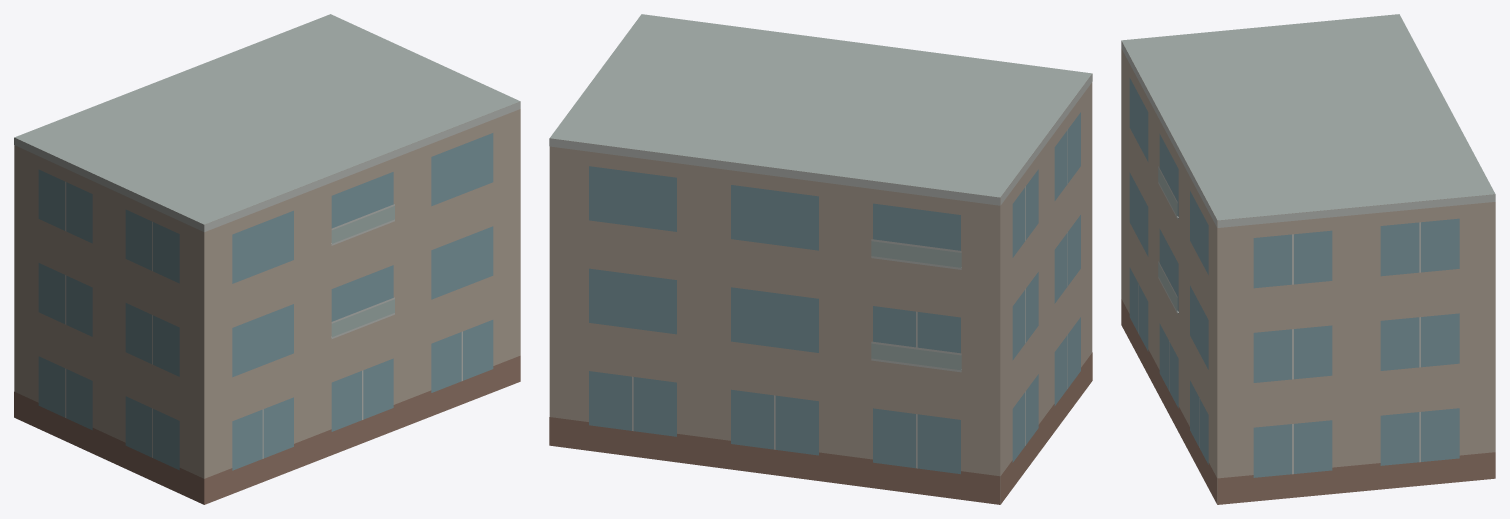
File: survey-upis-32717599.glb
The picture shows the model from 3 angles, left to right: view 1: azimuth 30°, elevation 25°; view 2: azimuth 150°, elevation 25°; view 3: azimuth 270°, elevation 25°; orthographic projection. The views are drawn at different scales.
Visible parts, largest first — view 1: survey-upis-32717599.tmp; view 2: survey-upis-32717599.tmp; view 3: survey-upis-32717599.tmp.
Part boxes in pixels (<box>): survey-upis-32717599.tmp: <box>14,14,520,504</box>; survey-upis-32717599.tmp: <box>549,14,1092,504</box>; survey-upis-32717599.tmp: <box>1121,14,1495,504</box>.
Bounding box in the file's own units: 14.18 × 9.1 × 10.87.
